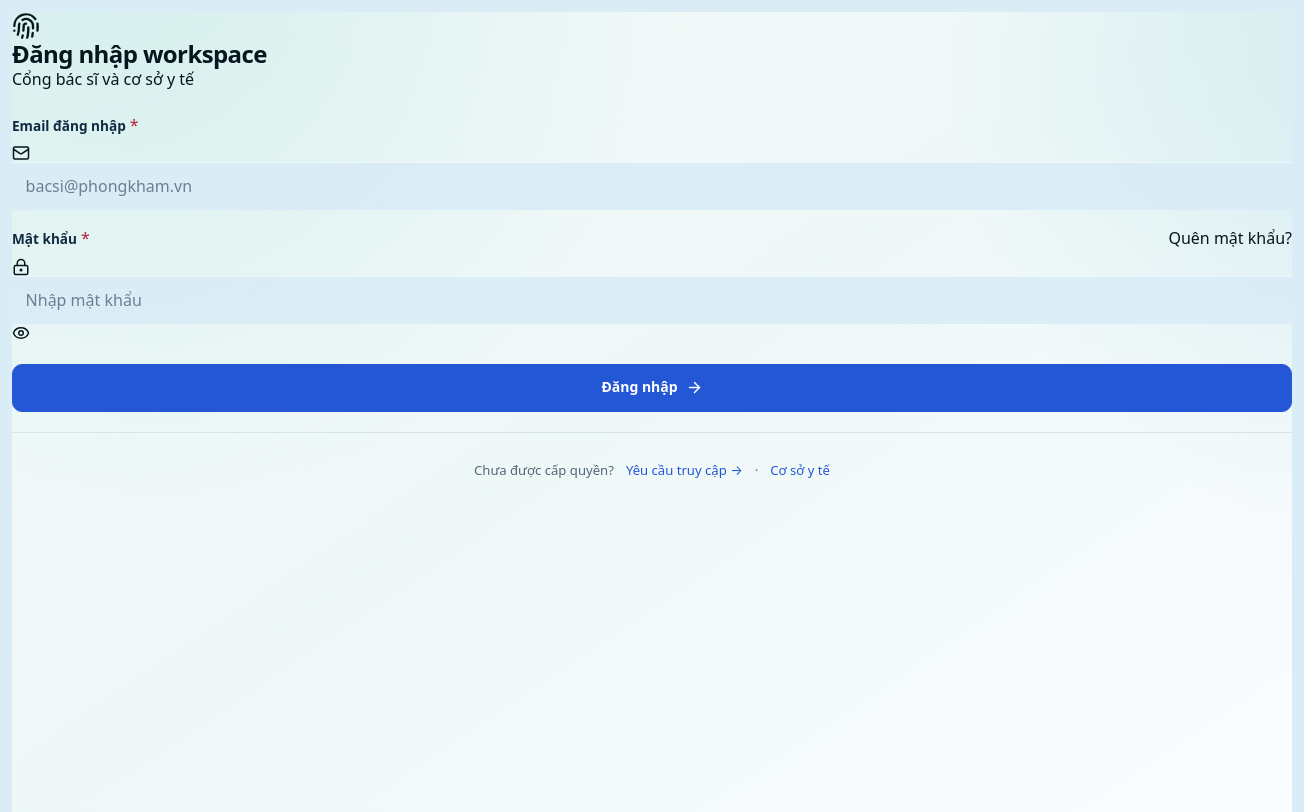
LoginPage › renders a safe recovery message instead of a raw provider error
In the field labelled "Email đăng nhập": (652, 186) x1=12 y1=162 x2=1292 y2=210, type "doctor@clinic.vn"
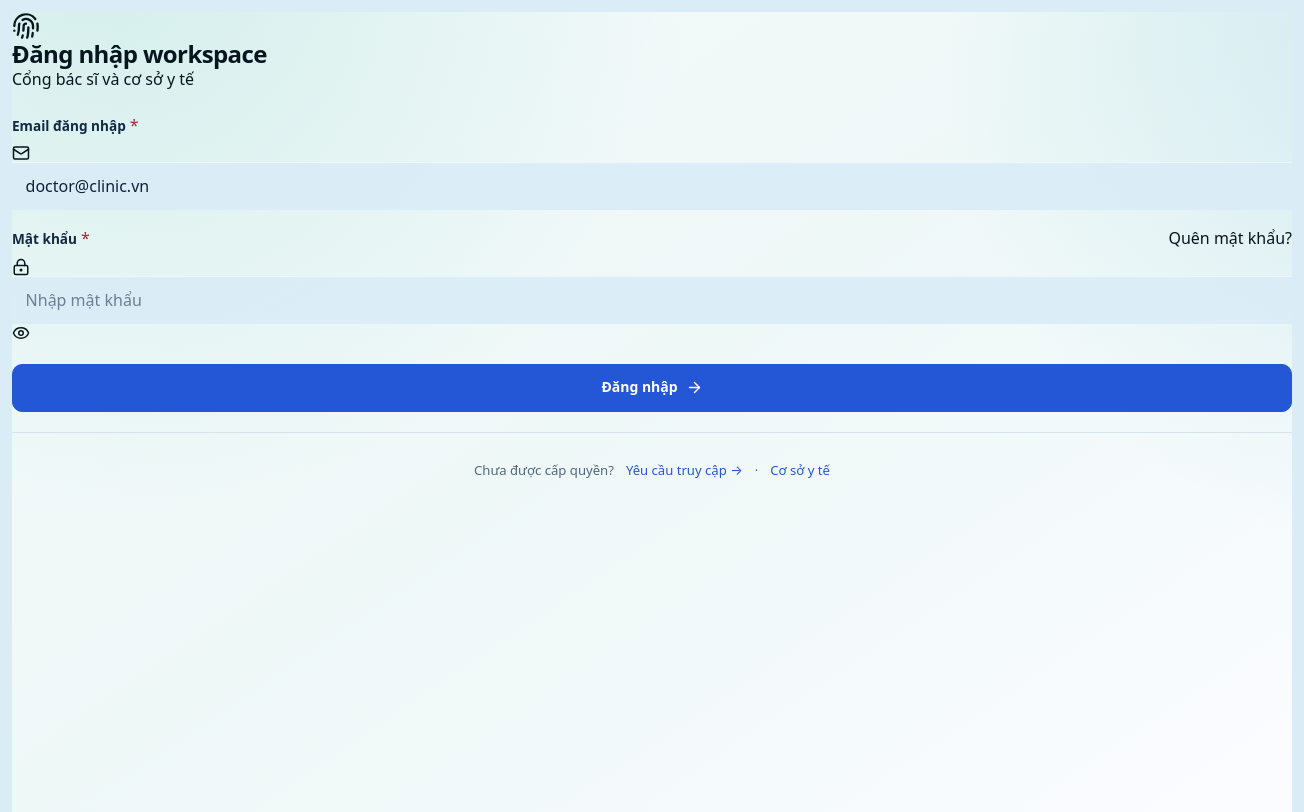
In the password field labelled "Mật khẩu": (652, 300) x1=12 y1=276 x2=1292 y2=324, type "valid-password"
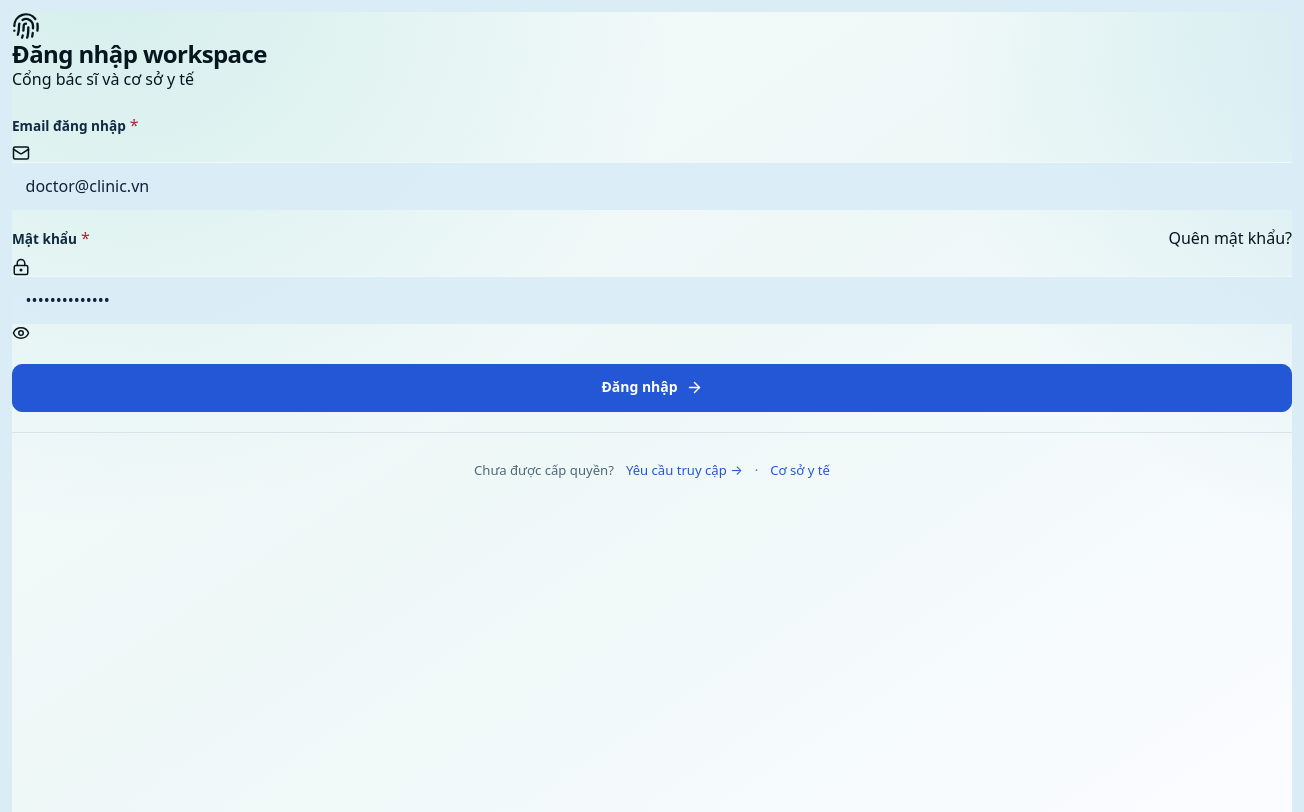
Submit the form "đăng nhập", box x1=12 y1=113 x2=1292 y2=412
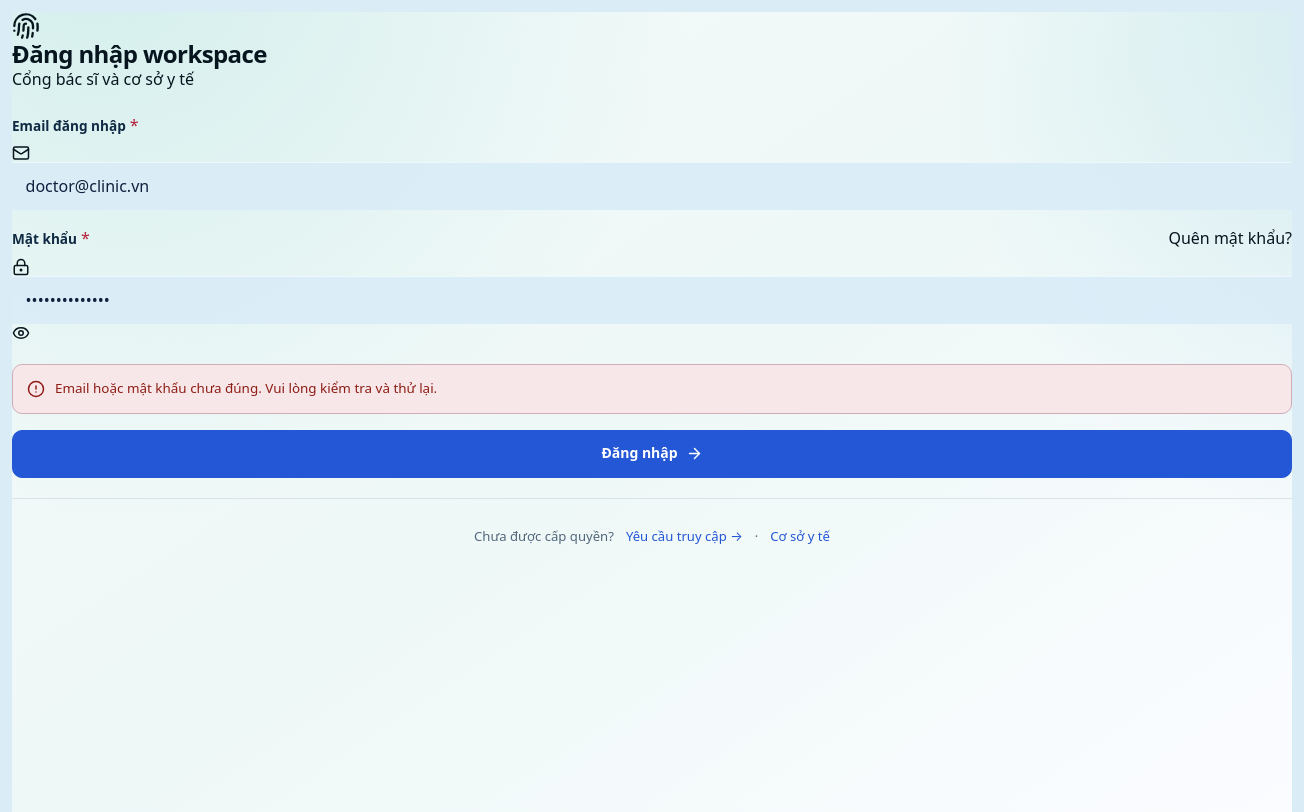
expect the text "Email hoặc mật khẩu chưa đúng. Vui lòng kiểm tra và thử lại." is shown: met, box x1=55 y1=379 x2=437 y2=397
